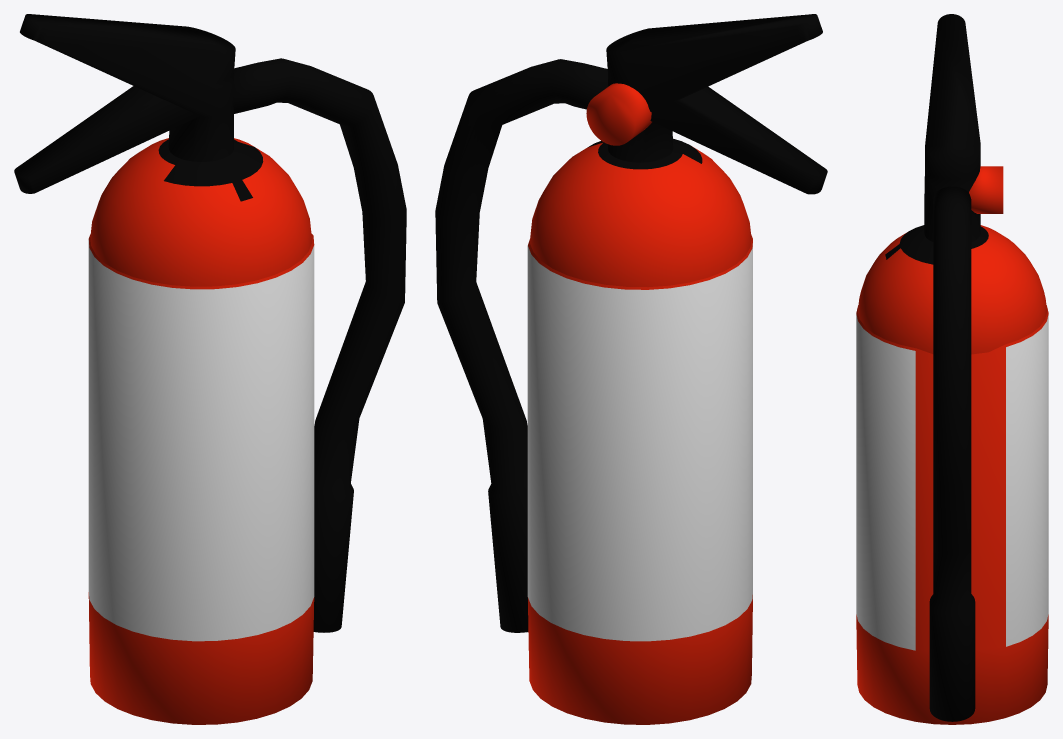
File: FireExtinguisher.fbx
3 views of the same model, side by side, from view 1: azimuth 30°, elevation 25°; view 2: azimuth 150°, elevation 25°; view 3: azimuth 270°, elevation 25° (orthographic). The views are drawn at different scales.
Visible parts, largest first — view 1: FireExtinguisher; view 2: FireExtinguisher; view 3: FireExtinguisher.
Boxes of the visible parts, box(x1,y1,x2,y2) form: FireExtinguisher: box(14, 14, 406, 724); FireExtinguisher: box(435, 14, 827, 724); FireExtinguisher: box(856, 14, 1048, 724).
Bounding box in the file's own units: 40.09 × 69.45 × 20.25.
